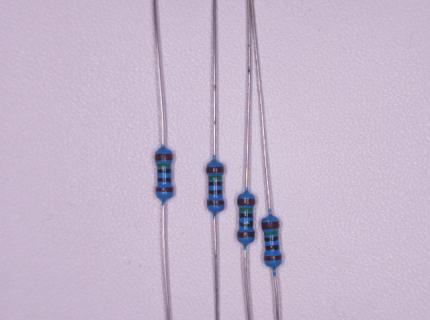Black band: (239, 221, 253, 228), (265, 236, 279, 242), (265, 245, 279, 251), (157, 177, 171, 183), (208, 190, 223, 195), (157, 168, 171, 173), (239, 213, 252, 218), (209, 181, 222, 186)
Brown band: (262, 221, 279, 230), (155, 153, 172, 161), (238, 199, 255, 206), (264, 255, 281, 262), (206, 167, 224, 173), (156, 187, 173, 193), (207, 201, 224, 206), (238, 232, 255, 237)
Green band: (264, 231, 278, 235), (209, 176, 222, 180), (239, 208, 252, 212), (156, 163, 172, 166)
